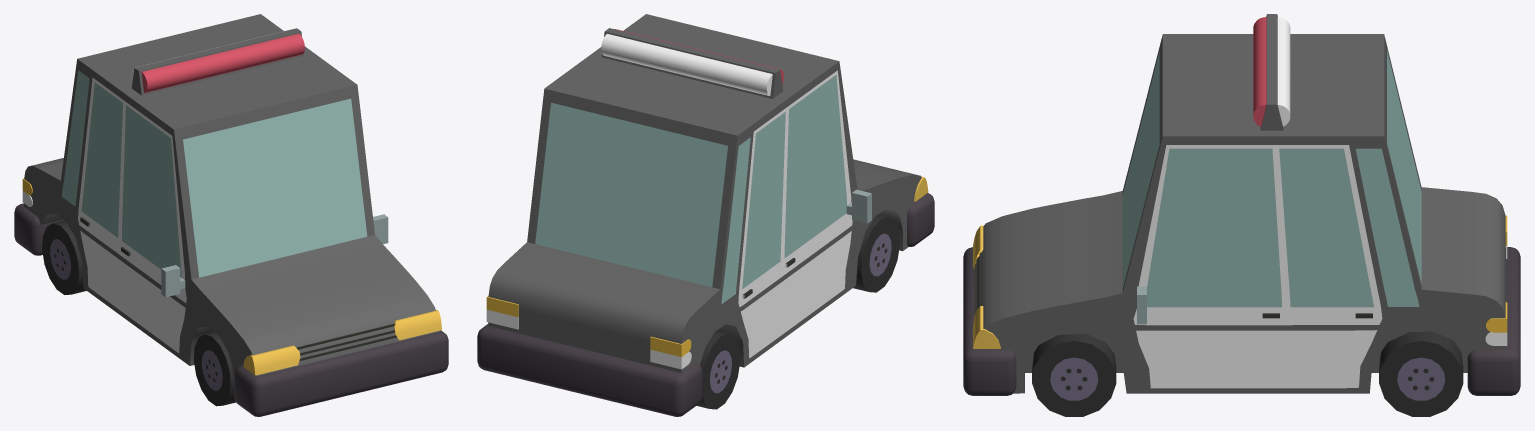
File: police.glb
The picture shows the model from 3 angles, left to right: view 1: azimuth 30°, elevation 25°; view 2: azimuth 150°, elevation 25°; view 3: azimuth 270°, elevation 25°; orthographic projection. The views are drawn at different scales.
Parts seen in each view (by area): view 1: police.001; view 2: police.001; view 3: police.001.
Part boxes in pixels (x1,y1,x2,y2): police.001: [14, 14, 448, 416]; police.001: [477, 14, 934, 416]; police.001: [963, 14, 1520, 416].
Bounding box in the file's own units: 2.25 × 2.58 × 4.26.
